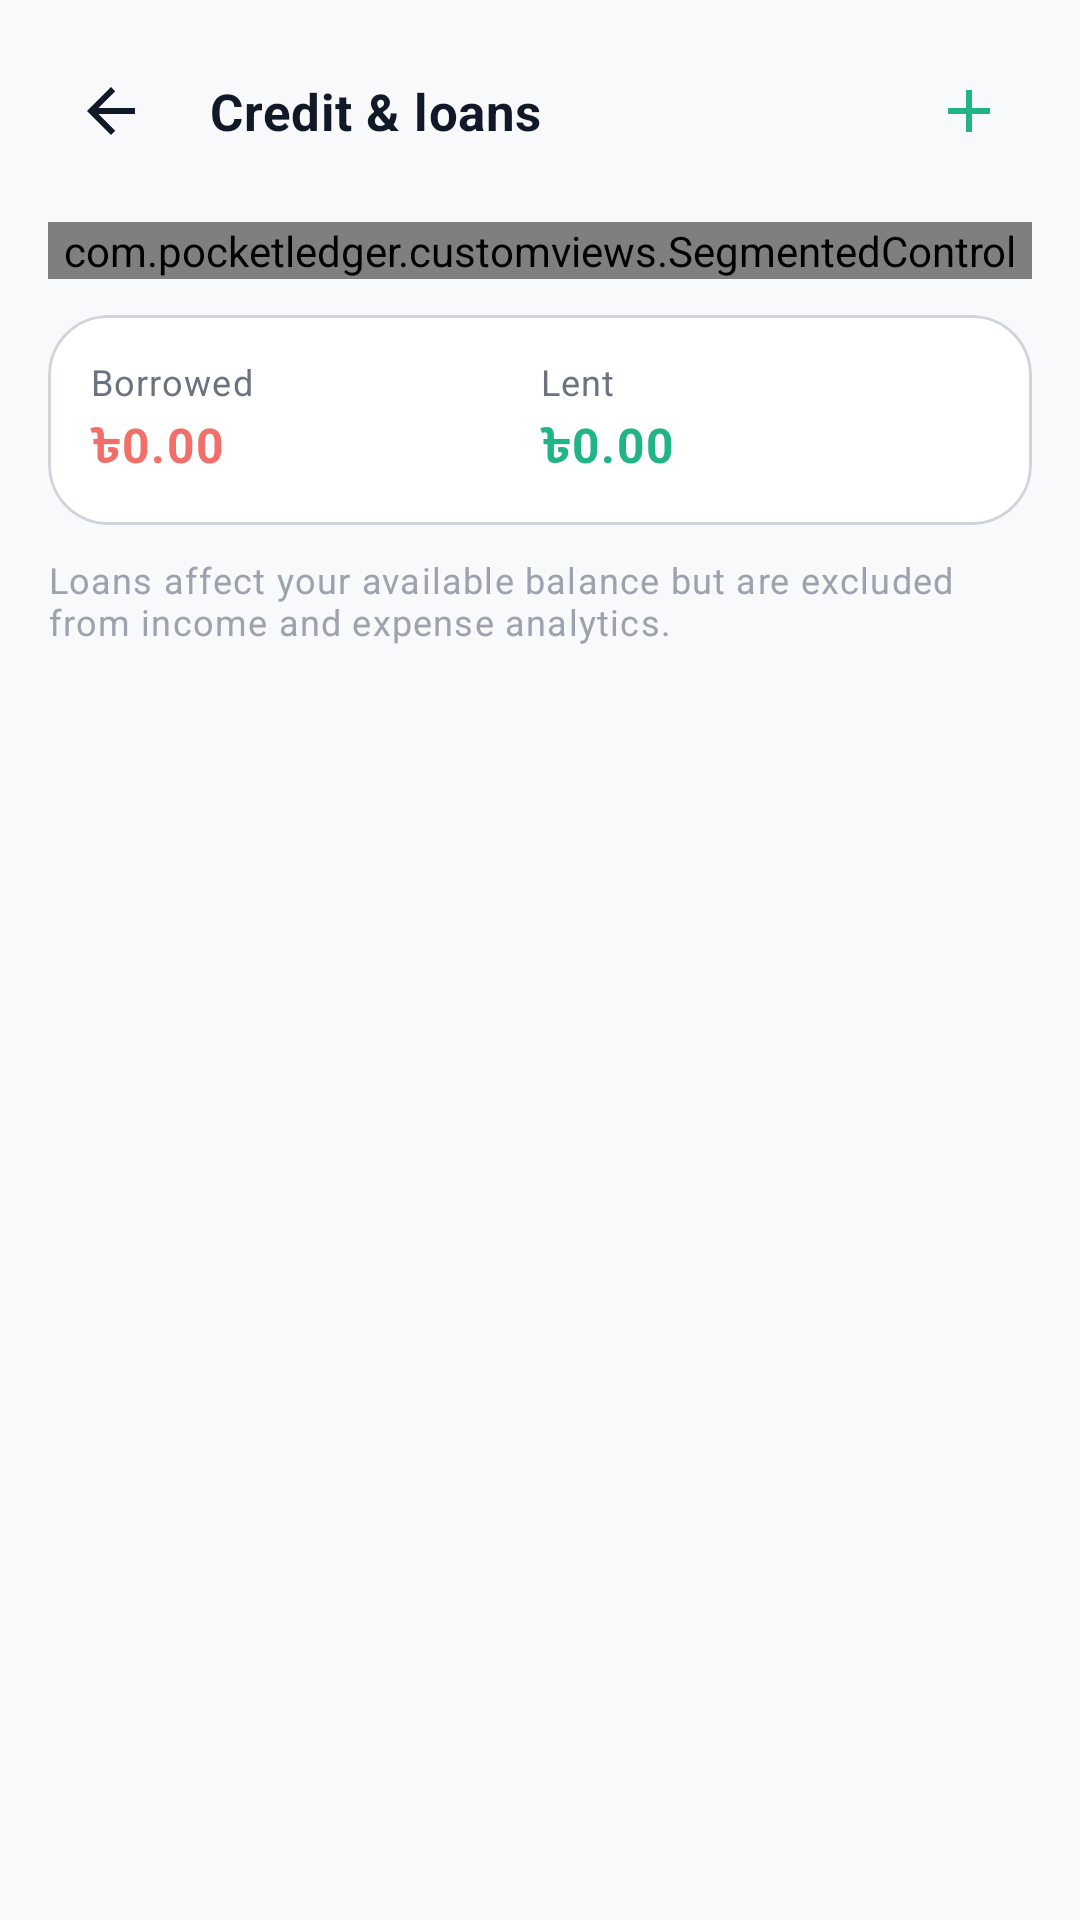

Named icons in this screenshot (1080w x 1920h) and their centers, (x=x, y=y):
Add loan: (x=969, y=111)
Back: (x=111, y=111)
